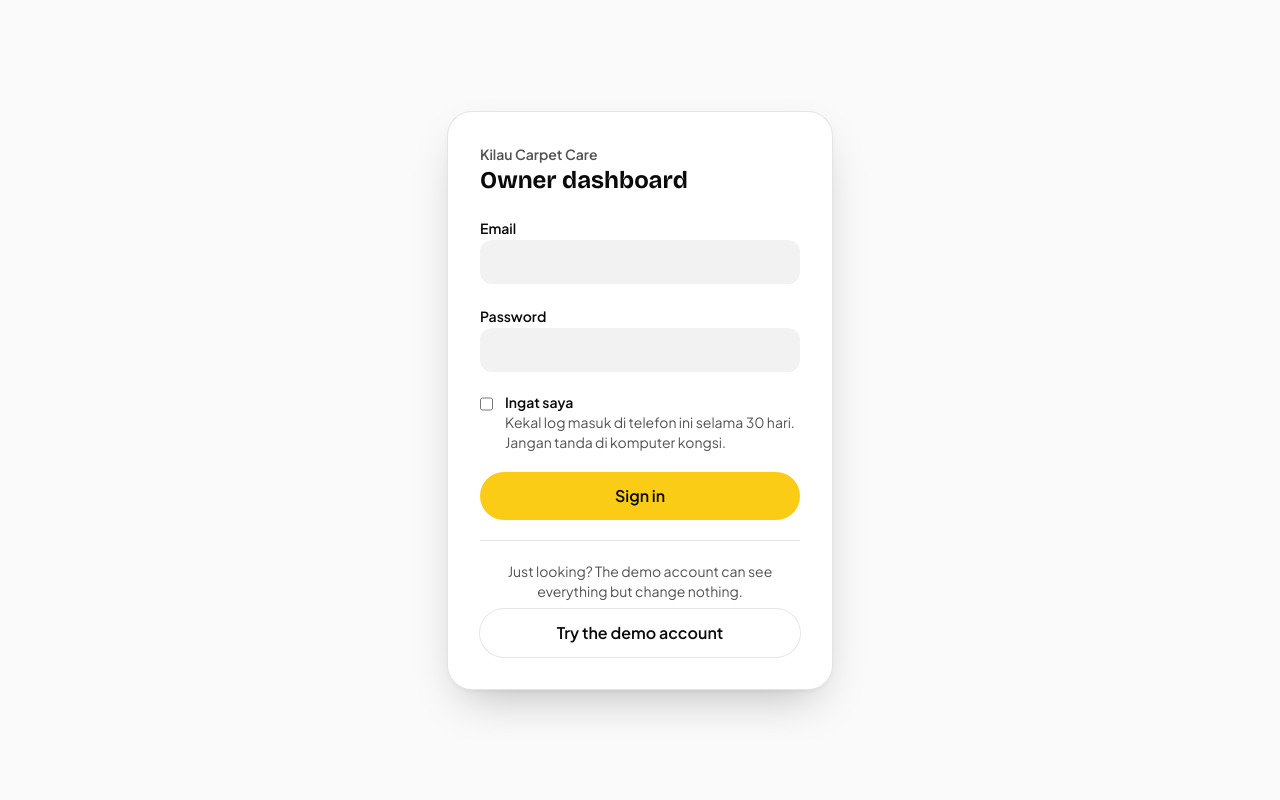
owner dashboard › signs in to the demo account with one click
What coordinates should you click on to do the following:
click the button "Try the demo account"
I would click on:
 (640, 632)
Its box is top-left (480, 608), bottom-right (800, 656).
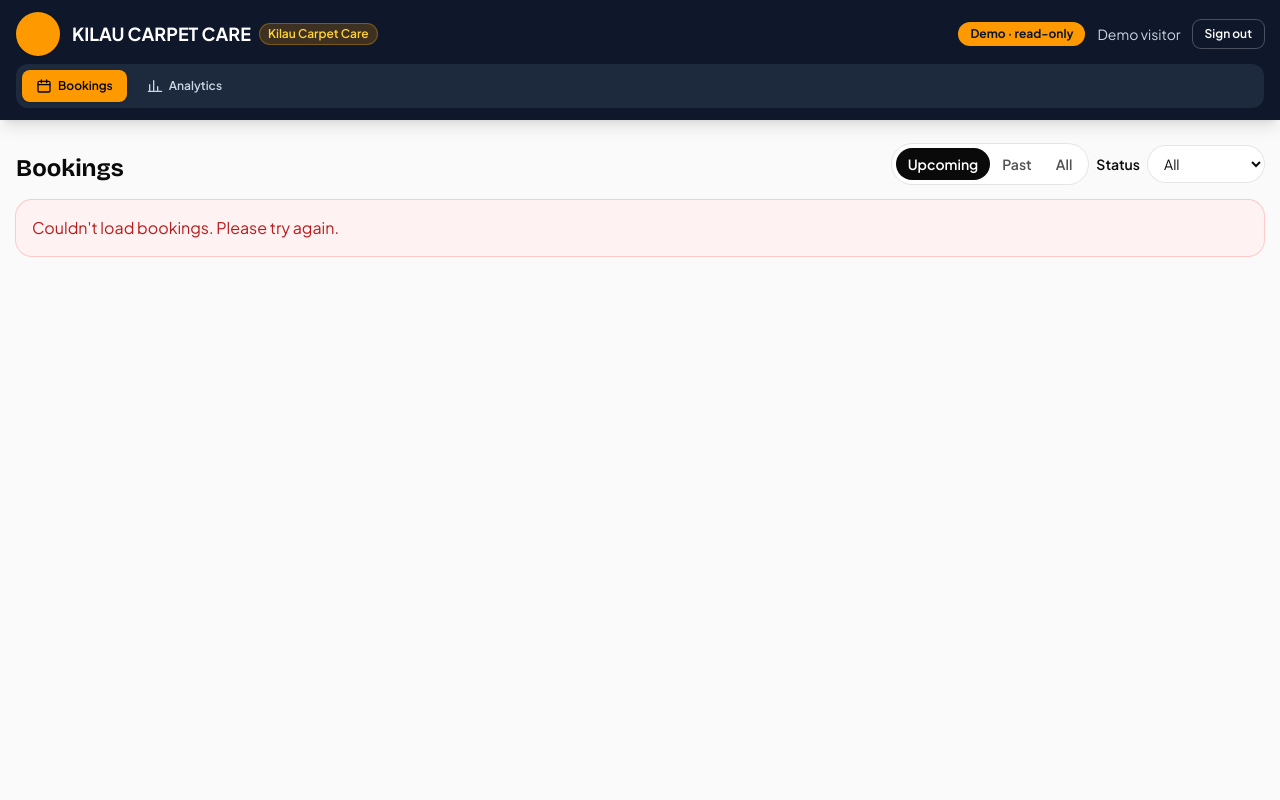
Check: the text "Demo · read-only" is shown, box top-left (958, 22), bottom-right (1086, 46)
